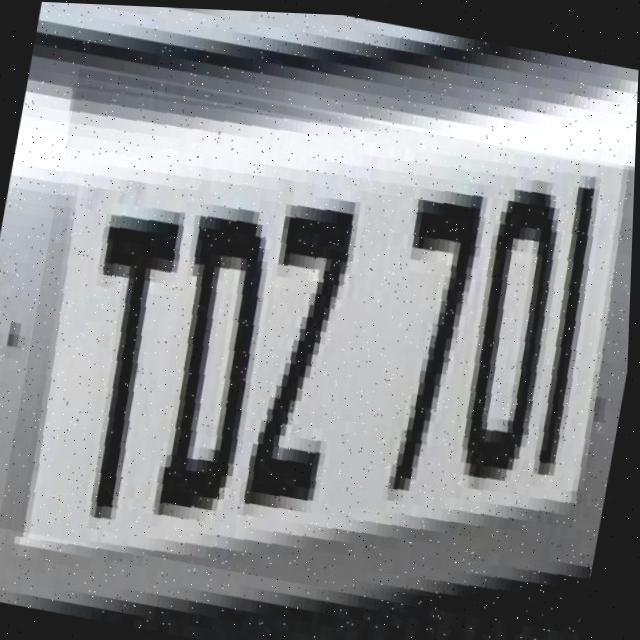LicensePlate: (0, 65, 638, 631)
